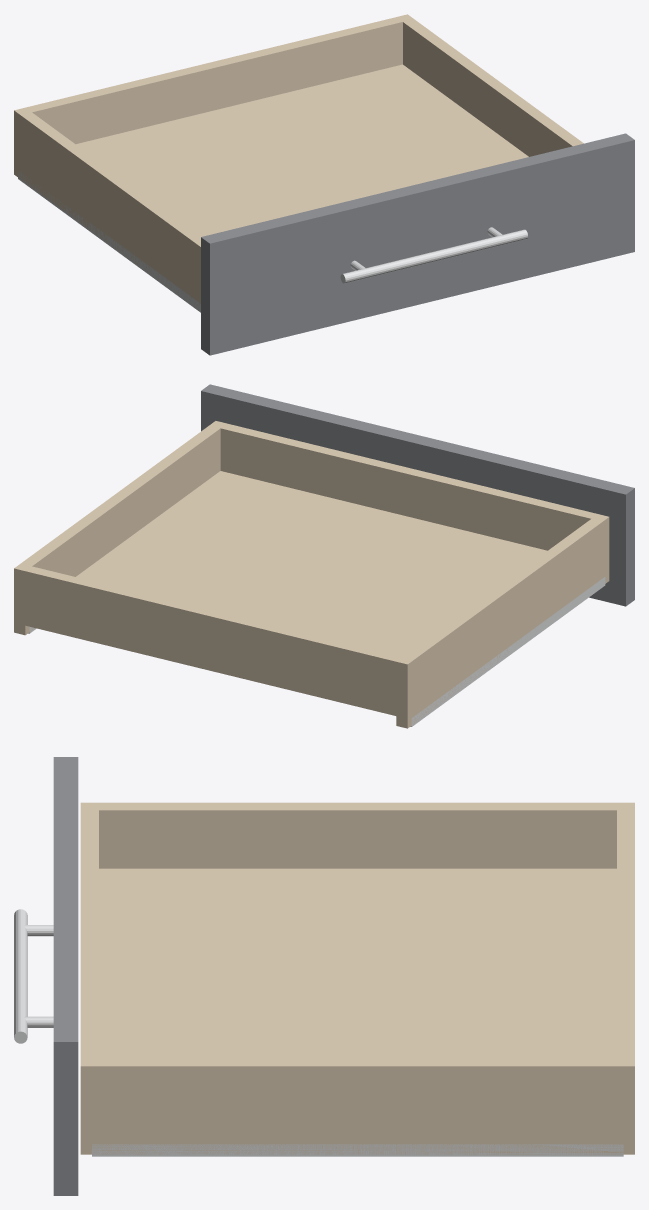
The model's file is skuff_K4_3.glb.
3 views of the same model, one above another, from view 1: azimuth 30°, elevation 25°; view 2: azimuth 150°, elevation 25°; view 3: azimuth 270°, elevation 25° (orthographic). The views are drawn at different scales.
Size of the model in its own units: 596 by 150 by 549.
